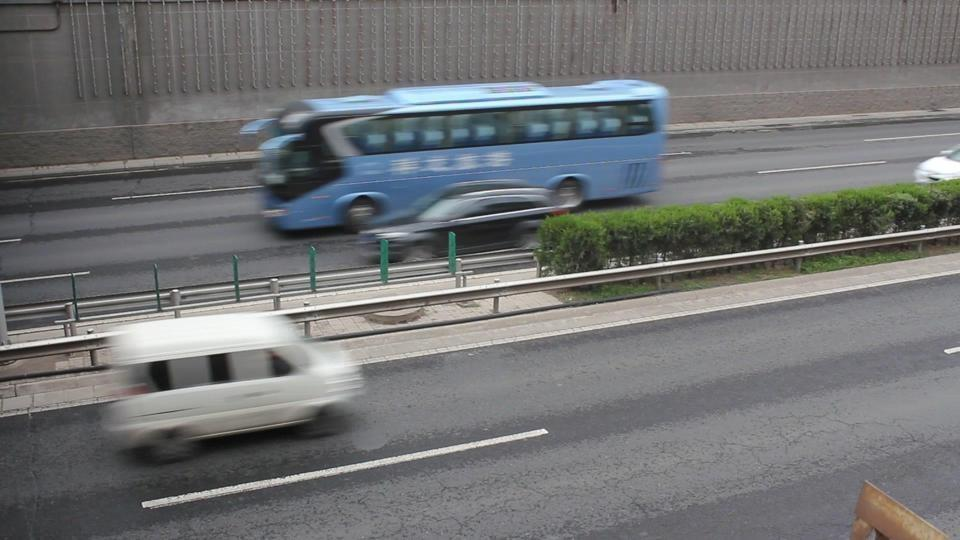car: (266, 82, 658, 232), (97, 311, 367, 463), (355, 181, 575, 263), (913, 144, 960, 184)
